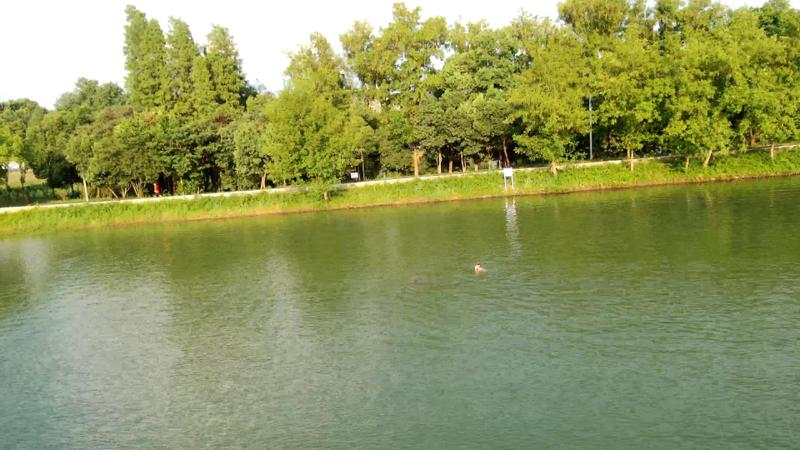passerby: (151, 181, 162, 198)
swimmers: (472, 261, 489, 274)
